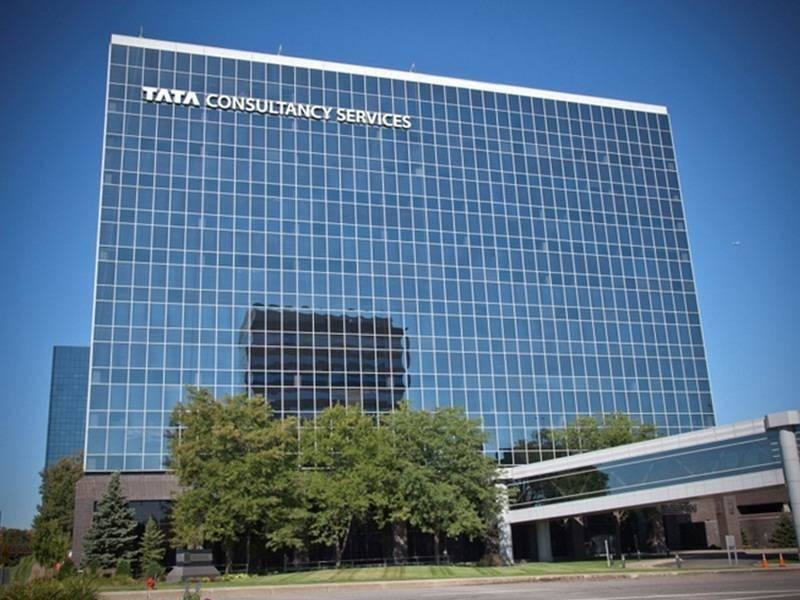tcs: (136, 84, 204, 110)
